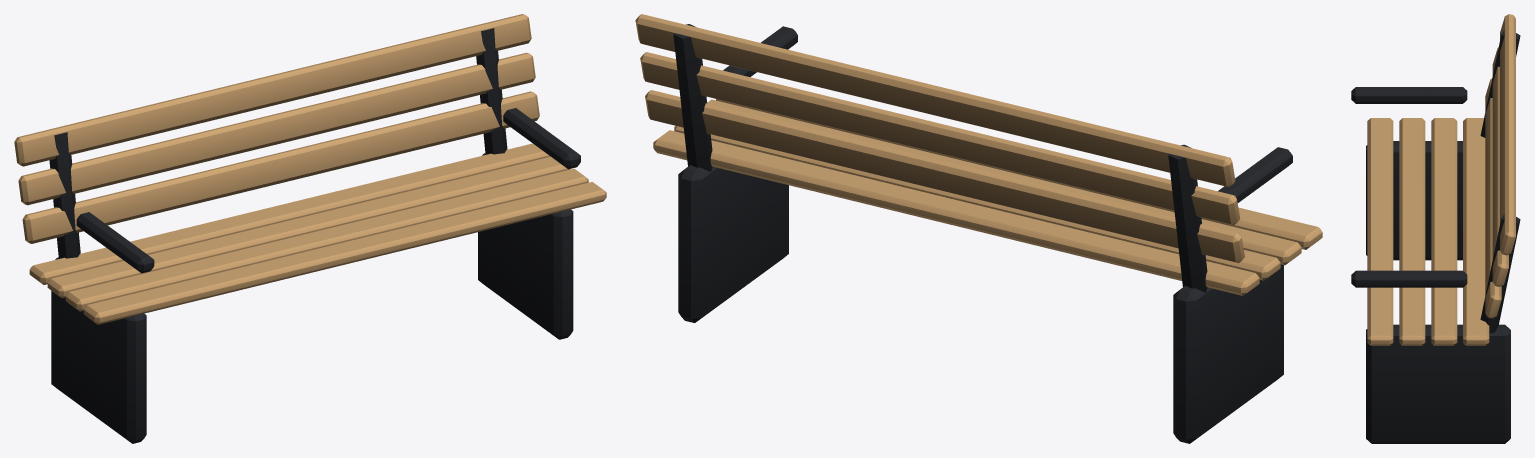
Rendered from bench_01.fbx.
3 renders of one model, left to right at view 1: azimuth 30°, elevation 25°; view 2: azimuth 150°, elevation 25°; view 3: azimuth 270°, elevation 25°, orthographic. The views are drawn at different scales.
Visible parts, largest first — view 1: bench_01_LOD0; view 2: bench_01_LOD0; view 3: bench_01_LOD0.
Part boxes in pixels (box(x1,y1,x2,y2)): bench_01_LOD0: box(14, 14, 606, 443); bench_01_LOD0: box(635, 14, 1322, 443); bench_01_LOD0: box(1351, 14, 1520, 443).
Size of what is drawn, in the model's own units: 1.8 by 0.8655 by 0.5832.
1 material, 1 textured.
